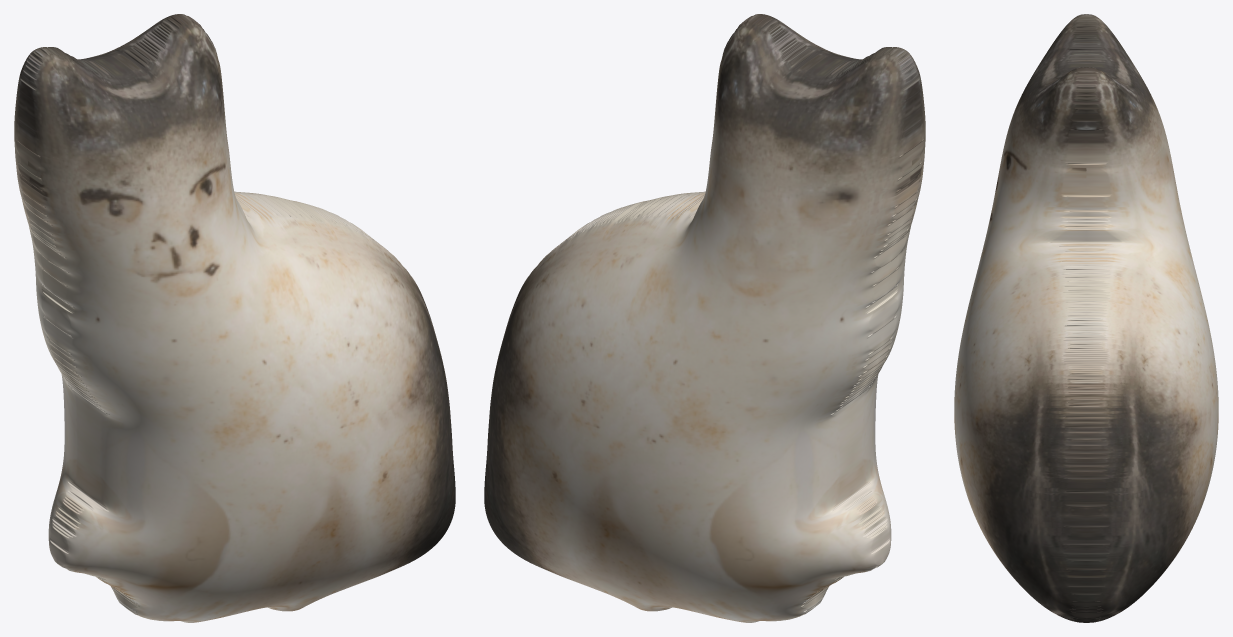
The model's file is Katze_29404.202.glb.
3 renders of one model, left to right at view 1: azimuth 30°, elevation 25°; view 2: azimuth 150°, elevation 25°; view 3: azimuth 270°, elevation 25°, orthographic. The views are drawn at different scales.
Visible parts, largest first — view 1: Katze; view 2: Katze; view 3: Katze.
Part boxes in pixels (x1,y1,x2,y2): Katze: (14,14,455,622); Katze: (484,14,925,622); Katze: (954,14,1218,622).
Size of the model in its own units: 0.0514 by 0.07 by 0.0354.
1 material, 1 textured.
